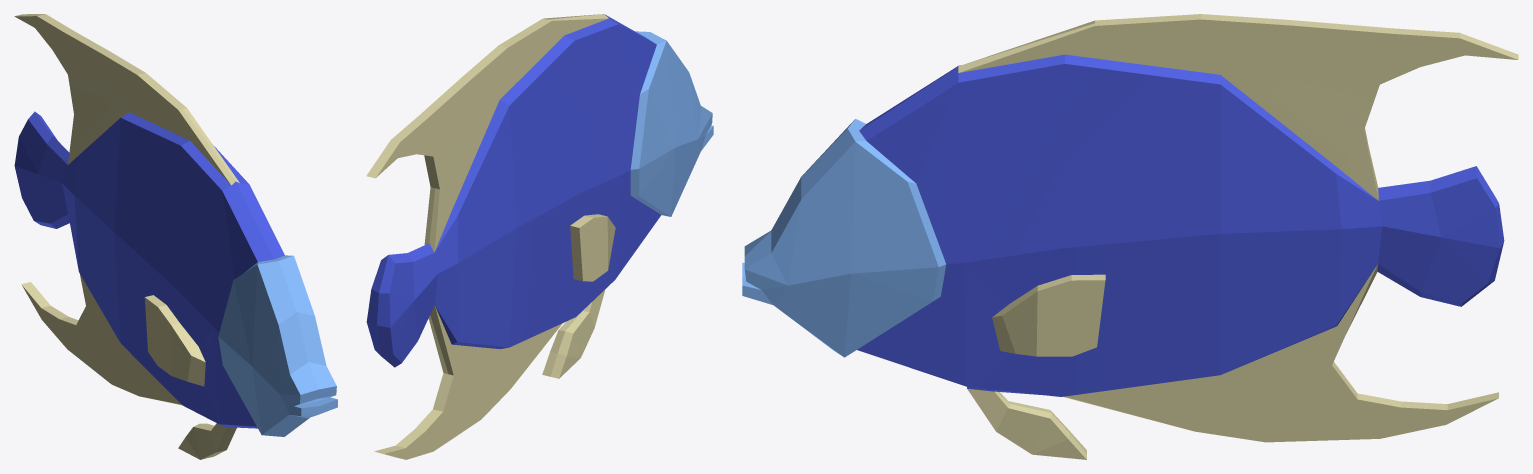
Rendered from fish2.glb.
3 renders of one model, left to right at view 1: azimuth 30°, elevation 25°; view 2: azimuth 150°, elevation 25°; view 3: azimuth 270°, elevation 25°, orthographic. The views are drawn at different scales.
Parts seen in each view (by area): view 1: Fish2; view 2: Fish2; view 3: Fish2.
Boxes of the visible parts, x1,y1,x2,y2 form: Fish2: (14, 14, 337, 459); Fish2: (366, 14, 713, 459); Fish2: (742, 14, 1518, 459).
Size of the model in its own units: 1.29 by 6.15 by 9.87.
